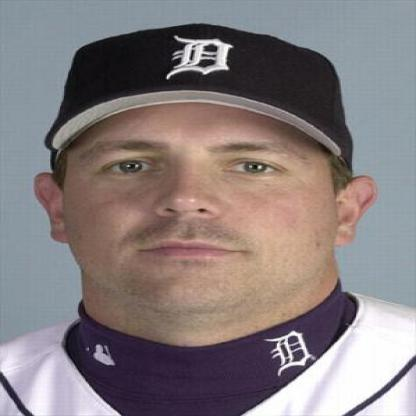face: (54, 28, 345, 314)
